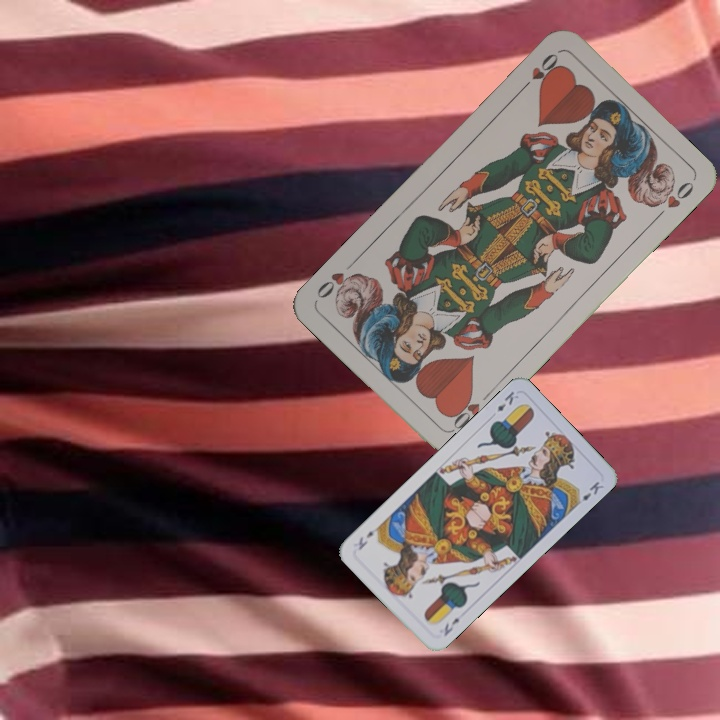EK: (493, 387, 521, 415), (440, 614, 462, 639)
HO: (445, 386, 495, 434), (515, 49, 562, 95)
